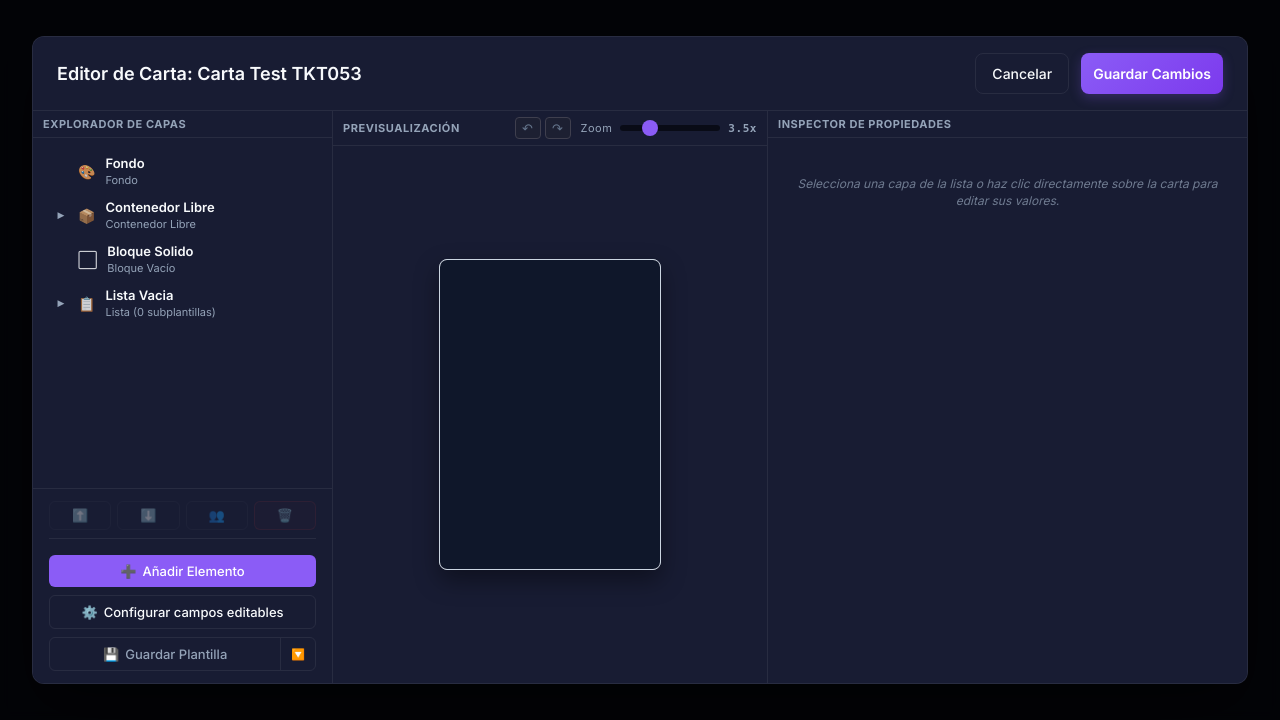
TKT-053: Integración de Dimensiones Automáticas y Listas en EditCardModal › muestra Ancho Auto y Alto Auto para bloques (tipo 'block')
What coordinates should you click on to do the following:
click the text "Bloque Solido"
I would click on:
 (150, 251)
Its box is [107,243,193,259].
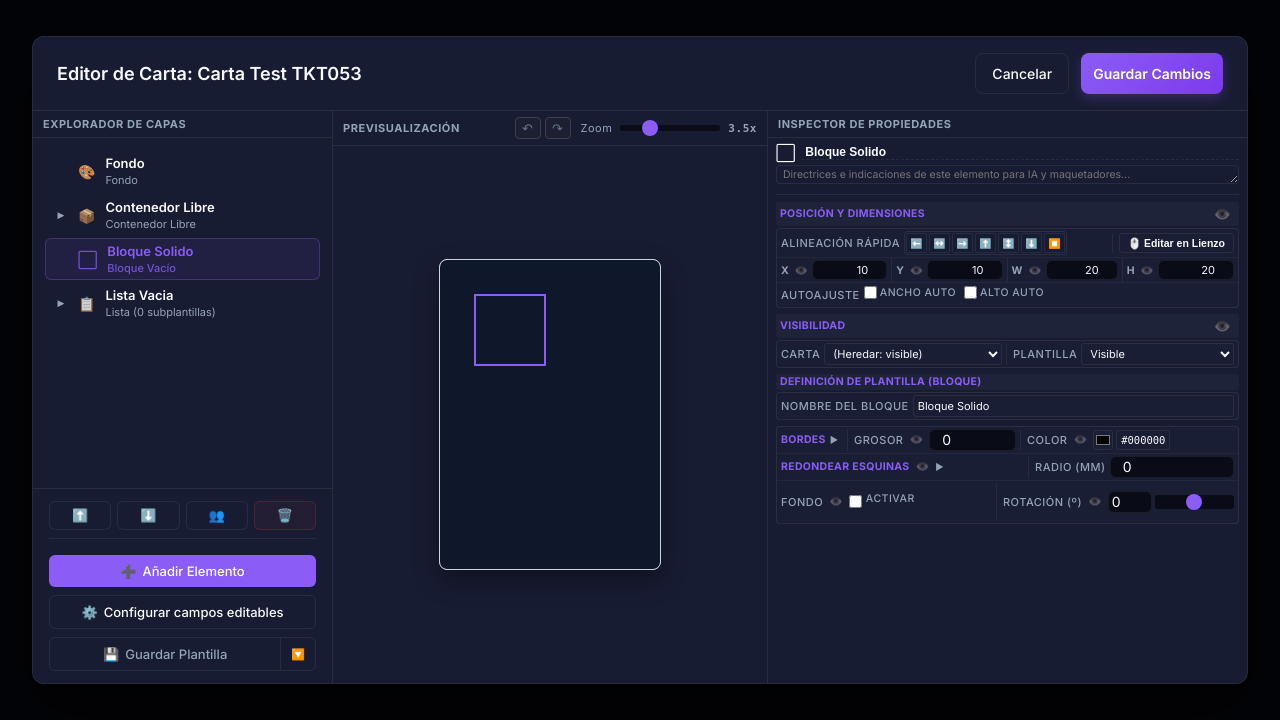
expect the text "Ancho Auto" is shown: met, box [864,286,956,299]
expect the text "Alto Auto" is shown: met, box [964,286,1044,299]
